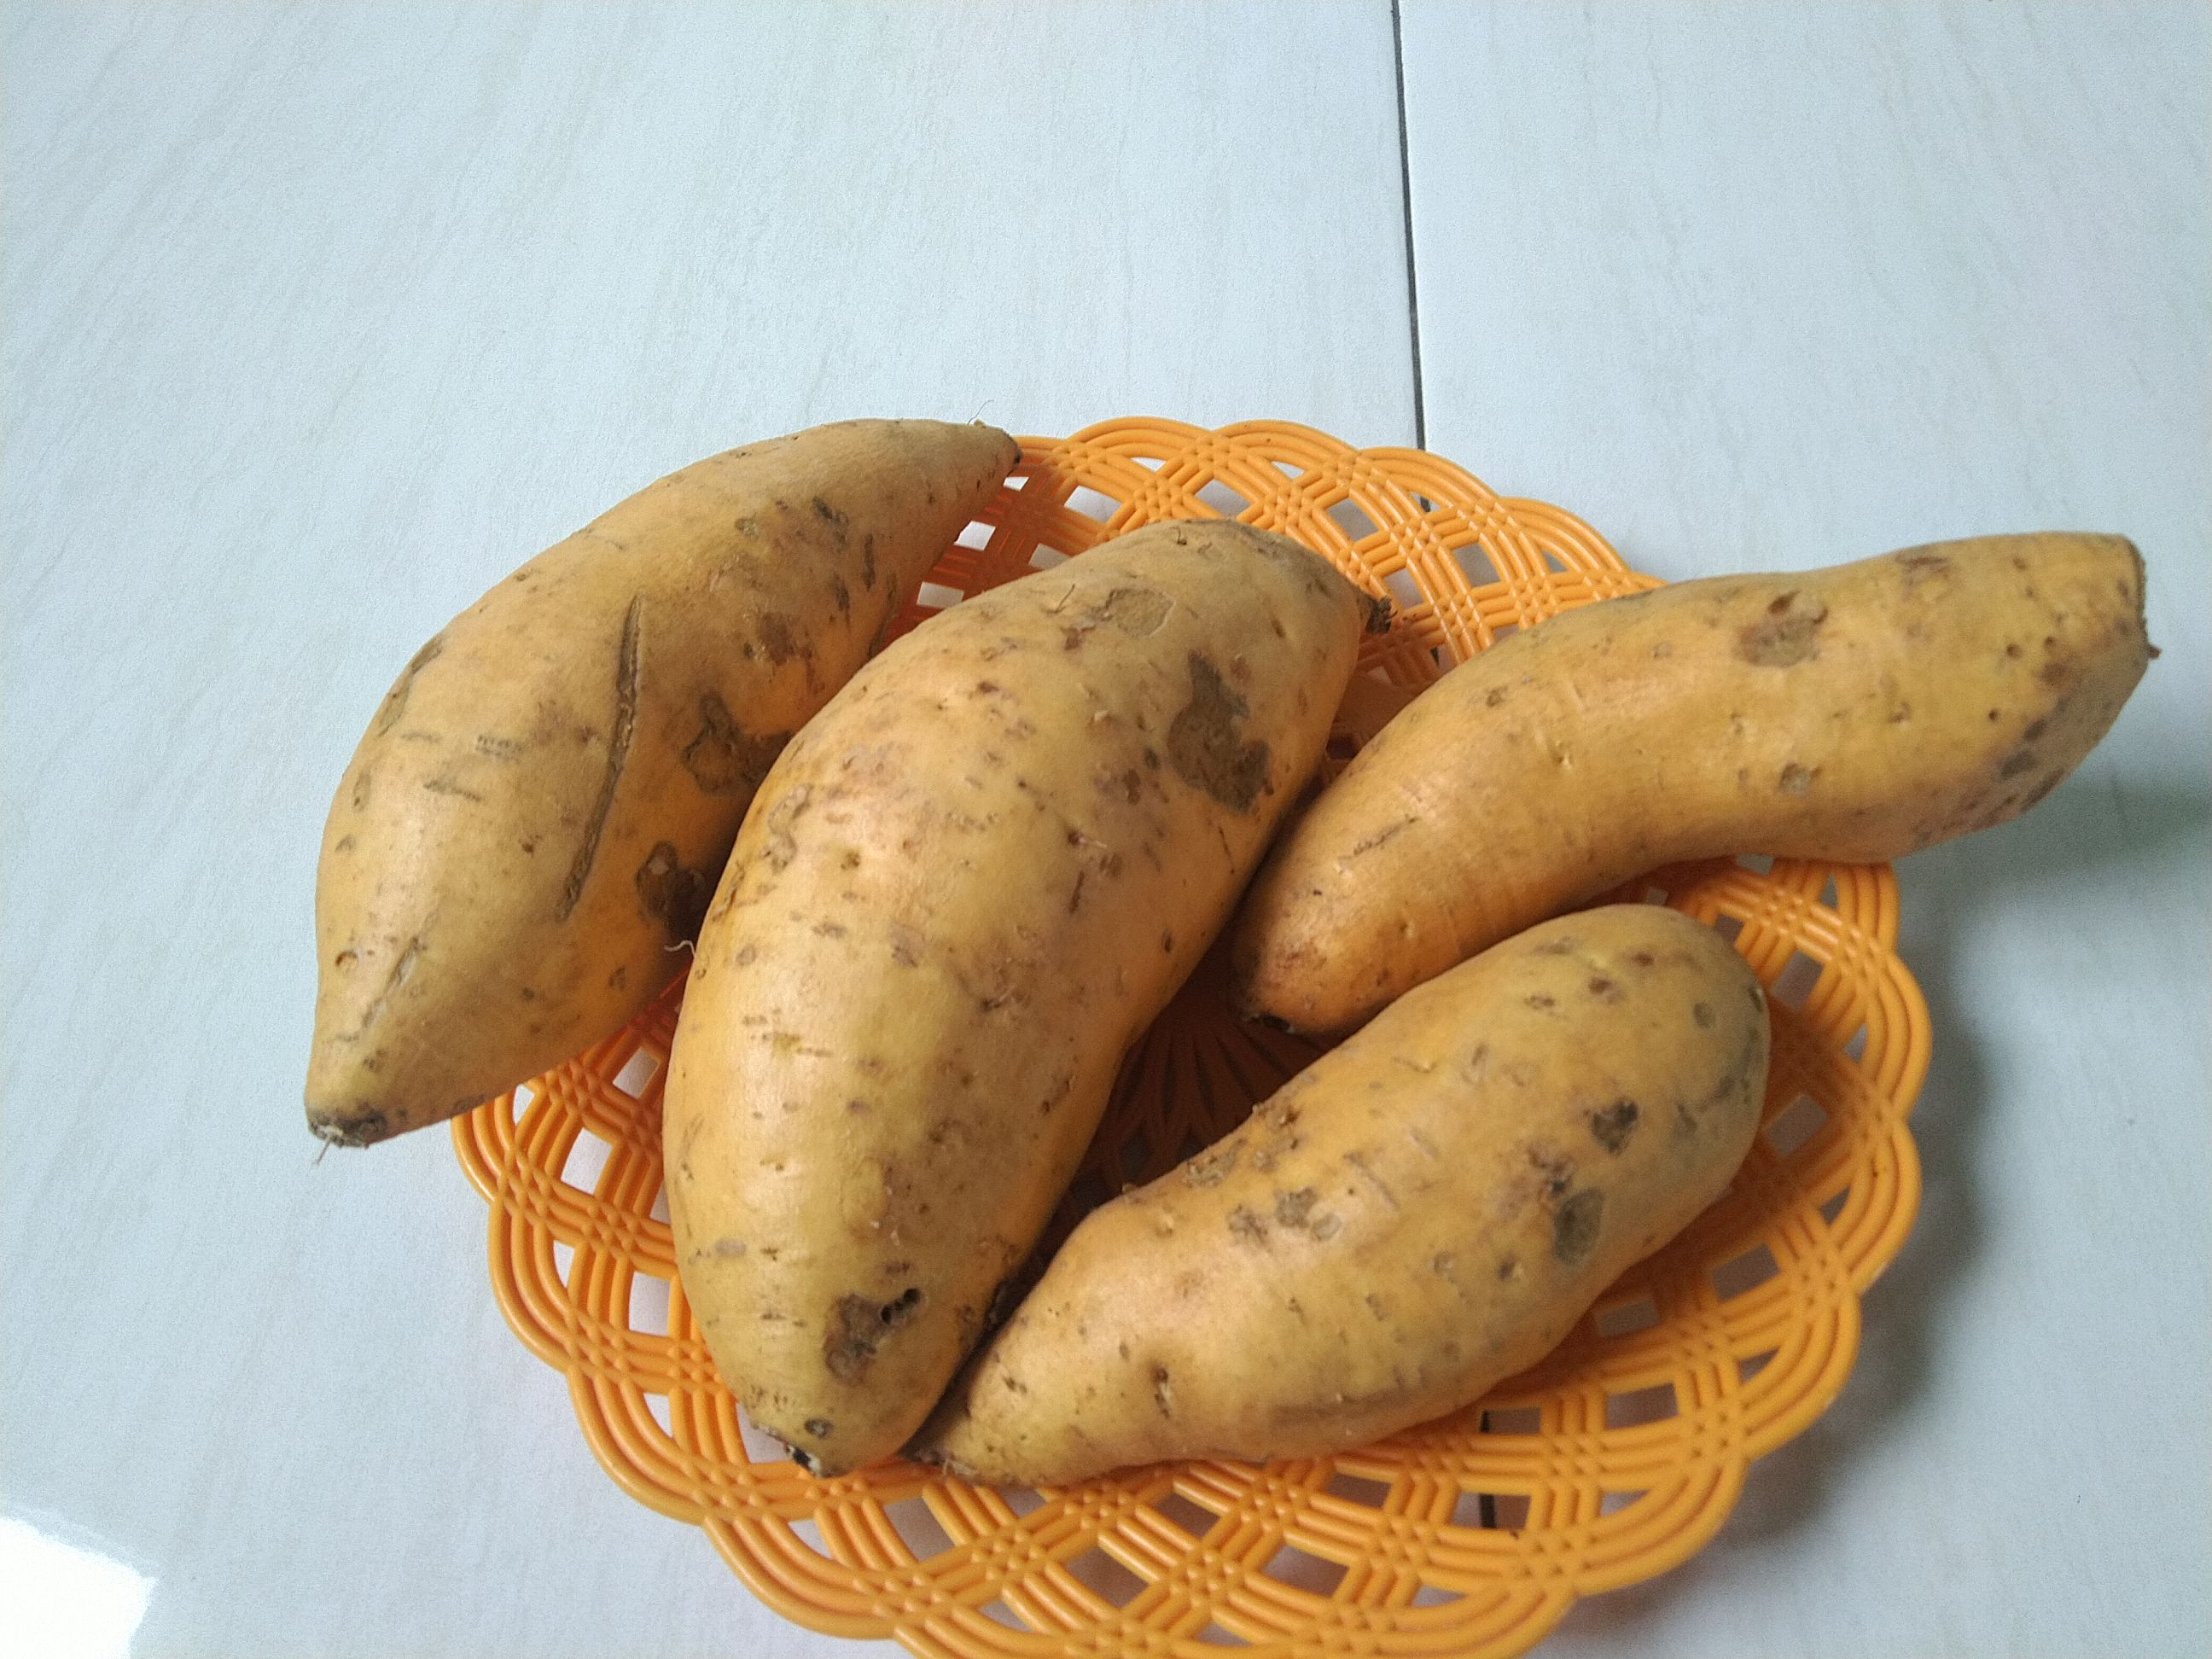ubi cilembu: (641, 519, 1393, 1497), (298, 401, 1026, 1201), (920, 903, 1813, 1506), (1223, 512, 2175, 1046)
